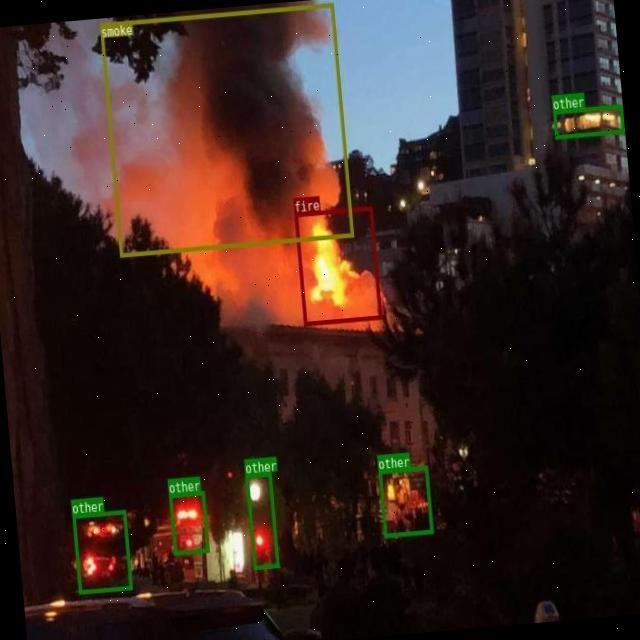fire: (294, 207, 382, 326)
smoke: (98, 2, 353, 256)
